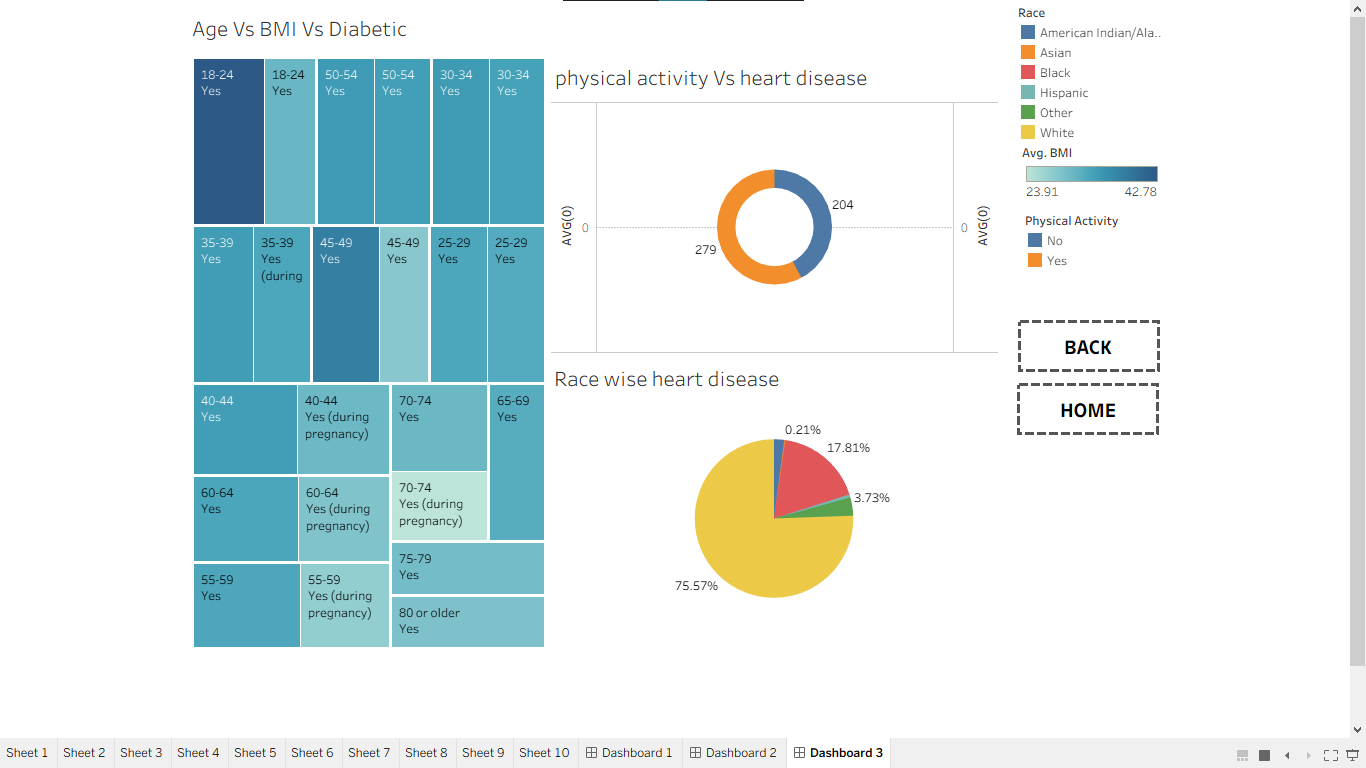

Layout of this report page (visuals, bound fields, positions):
{"tool":"tableau","page":{"name":"Dashboard 3","canvas":[1000,800],"ordinal":2},"visuals":[{"type":"legend","title":"Sheet 6","param":"[federated.0jo01wn0a97d7p16aqg6s092jnv1].[none:Race:nk]","box":[840,0,160,302]},{"type":"worksheet","title":"Sheet 9","mark":"Automatic","box":[14,10,377,642]},{"type":"worksheet","title":"Sheet 8","mark":"Pie","rows":["Calculation_0921161745166337","Calculation_0921161745223683"],"box":[377,59,448,294]},{"type":"legend","title":"Sheet 9","param":"[federated.0jo01wn0a97d7p16aqg6s092jnv1].[avg:BMI:qk]","box":[848,144,140,76]},{"type":"legend","title":"Sheet 8","param":"[federated.0jo01wn0a97d7p16aqg6s092jnv1].[none:PhysicalActivity:nk]","box":[851,212,140,58]},{"type":"dashboard-object","box":[844,320,142,52]},{"type":"worksheet","title":"Sheet 6","mark":"Pie","box":[376,360,448,274]},{"type":"dashboard-object","box":[843,383,142,52]}]}

Visuals, with their boxes on the page's 1000x800 design canvas (x1, y1, x2, y2). These are canvas units, not pixel positions in the 1366x768 screenshot, which may show the page scaled, cropped or inside an application window:
"Sheet 6" legend: x1=840, y1=0, x2=1000, y2=302
"Sheet 9" worksheet: x1=14, y1=10, x2=391, y2=652
"Sheet 8" worksheet (Pie marks): x1=377, y1=59, x2=825, y2=353
"Sheet 9" legend: x1=848, y1=144, x2=988, y2=220
"Sheet 8" legend: x1=851, y1=212, x2=991, y2=270
dashboard-object: x1=844, y1=320, x2=986, y2=372
"Sheet 6" worksheet (Pie marks): x1=376, y1=360, x2=824, y2=634
dashboard-object: x1=843, y1=383, x2=985, y2=435
